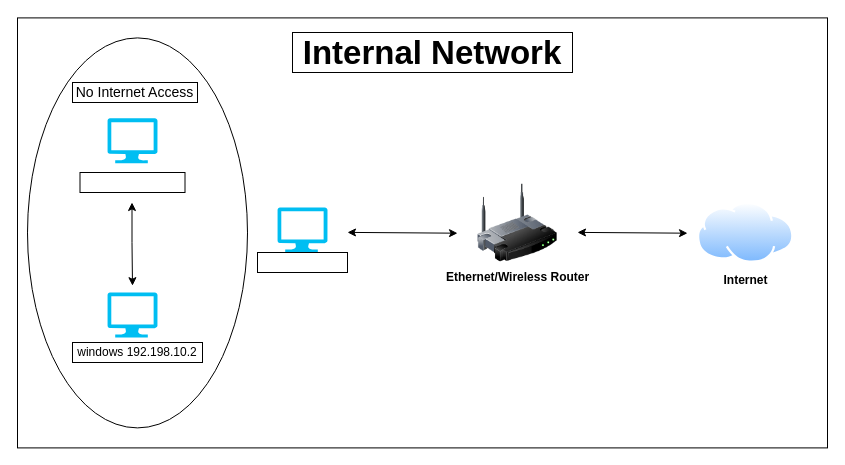
Image size: 845x465. Some labels were removed from this diagram. The shapes that lost their labels are listed below. From the top down, each one's box as (x1, y1, x2, y2) in pixels, then its label:
(79, 172, 185, 192): kali 192.198.10.1
(256, 252, 348, 272): Host
